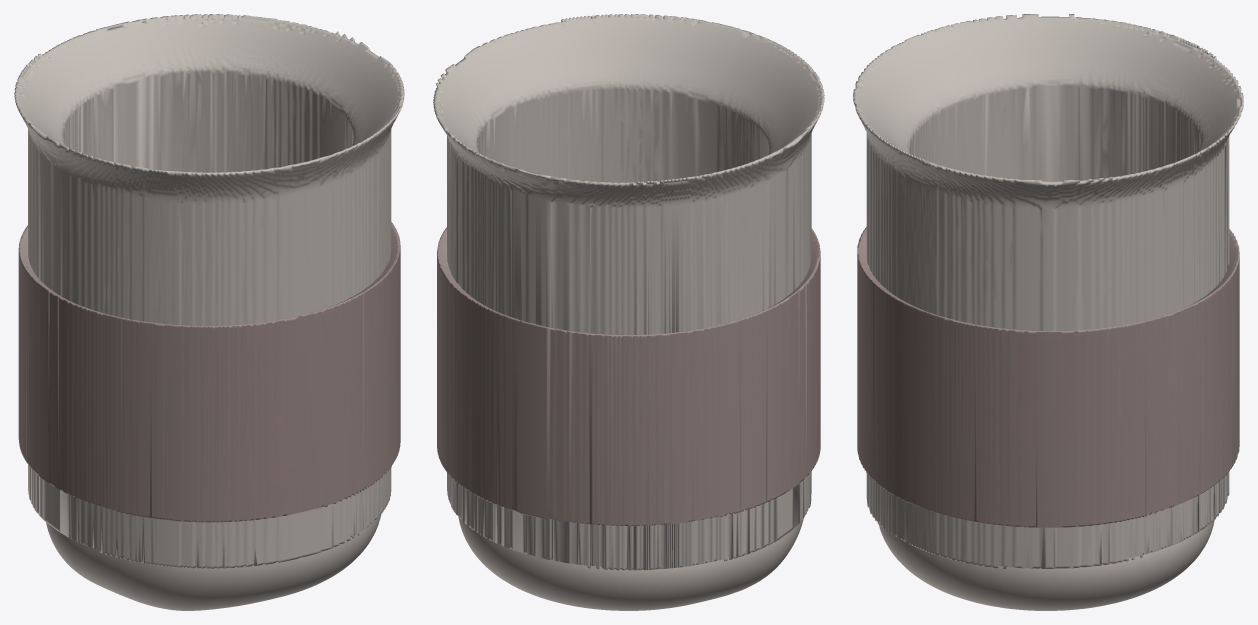
Rendered from cup-transformed.glb.
3 views of the same model, side by side, from view 1: azimuth 30°, elevation 25°; view 2: azimuth 150°, elevation 25°; view 3: azimuth 270°, elevation 25° (orthographic).
Visible parts, largest first — view 1: model_1, model_0; view 2: model_1, model_0; view 3: model_1, model_0.
Part boxes in pixels (box(x1,y1,x2,y2)): model_1: box(14, 14, 404, 568); model_0: box(18, 222, 400, 610); model_1: box(433, 14, 824, 570); model_0: box(437, 227, 820, 610); model_1: box(853, 14, 1243, 568); model_0: box(857, 227, 1239, 610).
Bounding box in the file's own units: 129 × 173 × 130.
Materials: 2 (1 with a texture image).
